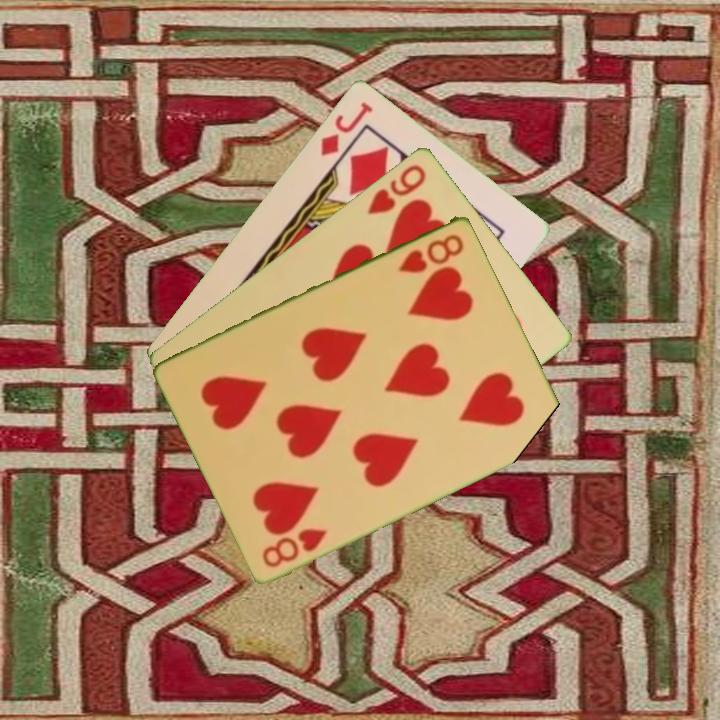8h: (258, 524, 331, 570), (395, 230, 467, 276)
9h: (363, 160, 429, 217)
Jd: (317, 97, 376, 159)
